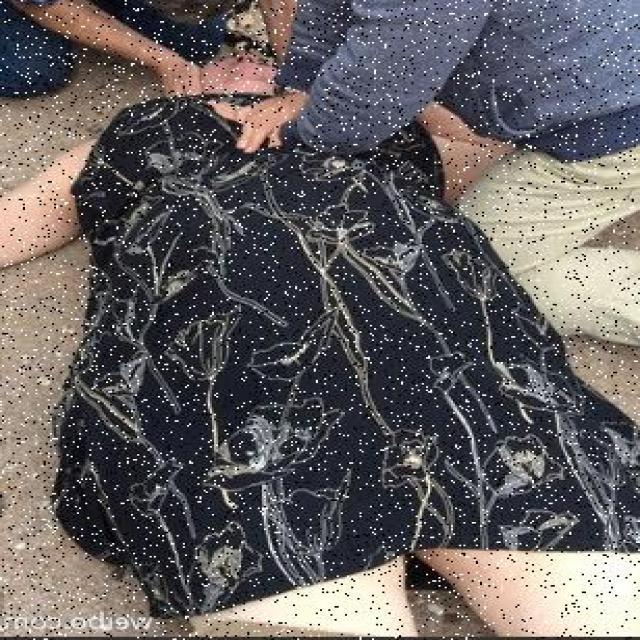fall: (23, 62, 627, 626)
